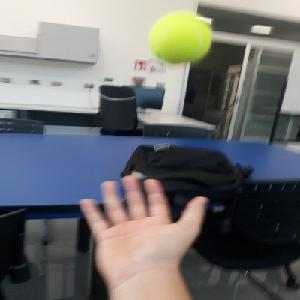Ball: (148, 13, 212, 63)
